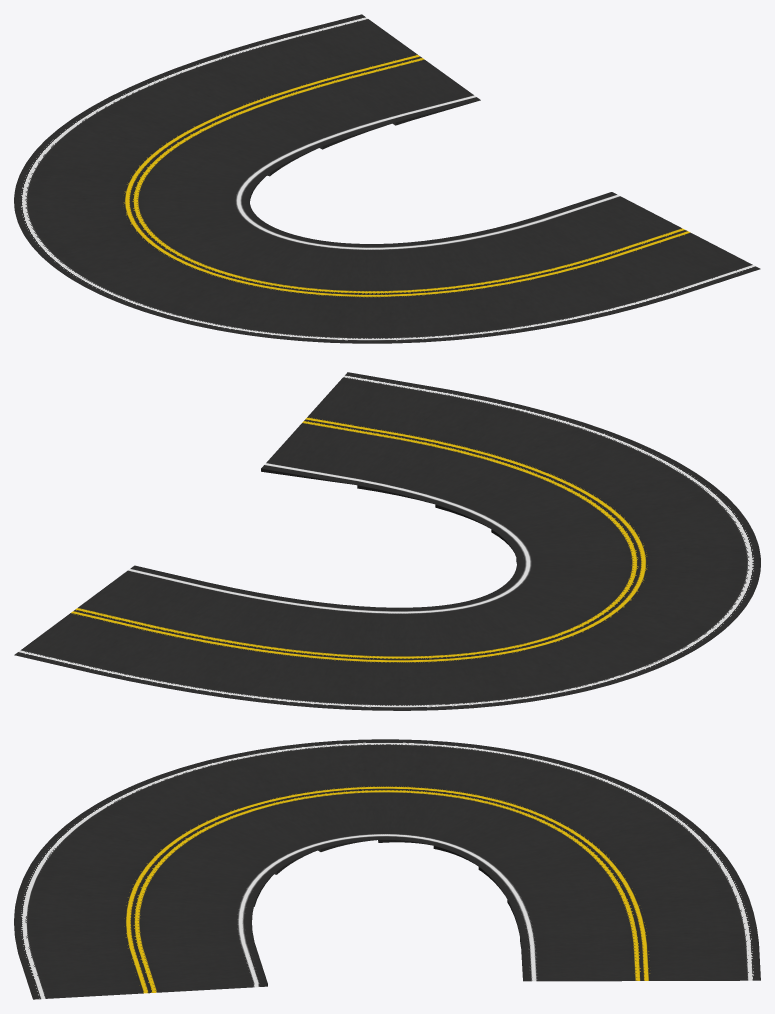
Rendered from LongCurvedRoad2.fbx.
3 views of the same model, one above another, from view 1: azimuth 30°, elevation 25°; view 2: azimuth 150°, elevation 25°; view 3: azimuth 270°, elevation 25° (orthographic). The views are drawn at different scales.
Visible parts, largest first — view 1: Plane; view 2: Plane; view 3: Plane.
Boxes of the visible parts, box(x1,y1,x2,y2) form: Plane: box(14, 14, 760, 343); Plane: box(14, 372, 760, 710); Plane: box(14, 739, 760, 999).
Size of the model in its own units: 1162 by 6.44 by 1409.
Materials: 1 (1 with a texture image).
